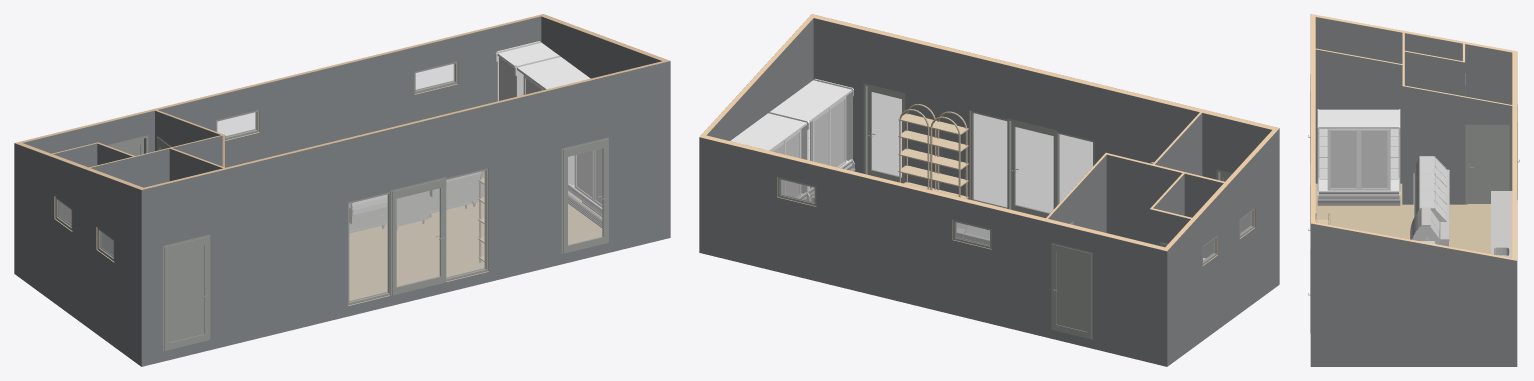
Rendered from Valkininkai_Mėsos krautuvėlė_R04.fbx.
3 views of the same model, side by side, from view 1: azimuth 30°, elevation 25°; view 2: azimuth 150°, elevation 25°; view 3: azimuth 270°, elevation 25° (orthographic). The views are drawn at different scales.
Visible parts, largest first — view 1: IfcWall/Part:2405523, IfcWall/Part:2405279, IfcWall/Part:2405271, IfcSlab/Part:2405282, IfcDoor/Lauko durys:1200x2250:2318509, IfcDoor/Lauko durys:1000x2250 nepermatomos (WC):2319108, IfcDoor/Lauko durys:1000x2250:2319070, IfcWindow/Aluprof_MB-86-SI_E_Alu_Window-1sash-FIX_ENG_R-000, IfcWindow/Aluprof_MB-86-SI_E_Alu_Window-1sash-FIX_ENG_R-0004, IfcWall/Part:2405276, IfcBuildingElementProxy/Freezer_-_Upright_Two_Door:62" Lengt, IfcWall/Part:2405264 (+14 smaller); view 2: IfcWall/Part:2405280, IfcWall/Part:2405522, IfcWall/Part:2405271, IfcBuildingElementProxy/Freezer_-_Upright_Two_Door:62" Lengt, IfcDoor/Lauko durys:1200x2250:2318509, IfcWall/Part:2405276, IfcWall/Part:2405263, IfcDoor/Lauko durys:1000x2100 (techninių patalpų):2321252, IfcDoor/Lauko durys:1000x2250:2319070, IfcWindow/Aluprof_MB-86-SI_E_Alu_Window-1sash-FIX_ENG_R-000, IfcBuildingElementProxy/Freezer_-_Upright_Two_Door:62" Leng, IfcWall/Part:2410921 (+12 smaller); view 3: IfcWall/Part:2405277, IfcBuildingElementProxy/Freezer_-_Upright_Two_Door:62" Leng., IfcWall/Part:2405268, IfcWall/Part:2405270, IfcWall/Part:2405260, IfcSlab/Part:2405282, IfcDoor/Vidaus durys:1000x2100:2319457, IfcBuildingElementProxy/Food_Service_Equipment-Display_Case. (×3), IfcWall/Part:2405257, IfcFurnishingElement/Workshop countertop6:Workshop counterto, IfcWall/Part:2405281, IfcWall/Part:2405524 (+6 smaller).
Boxes of the visible parts, left/top/right/bottom form: IfcWall/Part:2405523: left=141, top=61, right=670, bottom=366; IfcWall/Part:2405279: left=23, top=16, right=541, bottom=167; IfcWall/Part:2405271: left=14, top=143, right=141, bottom=366; IfcSlab/Part:2405282: left=349, top=198, right=602, bottom=300; IfcDoor/Lauko durys:1200x2250:2318509: left=388, top=177, right=446, bottom=295; IfcDoor/Lauko durys:1000x2250 nepermatomos (WC):2319108: left=163, top=234, right=210, bottom=351; IfcDoor/Lauko durys:1000x2250:2319070: left=561, top=137, right=608, bottom=253; IfcWindow/Aluprof_MB-86-SI_E_Alu_Window-1sash-FIX_ENG_R-000: left=446, top=168, right=488, bottom=281; IfcWindow/Aluprof_MB-86-SI_E_Alu_Window-1sash-FIX_ENG_R-0004: left=348, top=192, right=389, bottom=305; IfcWall/Part:2405276: left=541, top=16, right=662, bottom=78; IfcBuildingElementProxy/Freezer_-_Upright_Two_Door:62" Lengt: left=568, top=149, right=602, bottom=227; IfcWall/Part:2405264: left=91, top=148, right=169, bottom=255; IfcWall/Part:2405280: left=699, top=137, right=1167, bottom=366; IfcWall/Part:2405522: left=813, top=18, right=1271, bottom=199; IfcWall/Part:2405271: left=1167, top=128, right=1279, bottom=366; IfcBuildingElementProxy/Freezer_-_Upright_Two_Door:62" Lengt: left=770, top=78, right=855, bottom=201; IfcDoor/Lauko durys:1200x2250:2318509: left=1007, top=118, right=1058, bottom=217; IfcWall/Part:2405276: left=707, top=18, right=813, bottom=140; IfcWall/Part:2405263: left=1106, top=154, right=1182, bottom=243; IfcDoor/Lauko durys:1000x2100 (techninių patalpų):2321252: left=1051, top=242, right=1092, bottom=339; IfcDoor/Lauko durys:1000x2250:2319070: left=863, top=83, right=905, bottom=183; IfcWindow/Aluprof_MB-86-SI_E_Alu_Window-1sash-FIX_ENG_R-000: left=970, top=110, right=1011, bottom=209; IfcBuildingElementProxy/Freezer_-_Upright_Two_Door:62" Leng: left=730, top=111, right=809, bottom=200; IfcWall/Part:2410921: left=1048, top=155, right=1106, bottom=232; IfcWall/Part:2405277: left=1310, top=223, right=1516, bottom=366; IfcBuildingElementProxy/Freezer_-_Upright_Two_Door:62" Leng.: left=1317, top=109, right=1400, bottom=205; IfcWall/Part:2405268: left=1402, top=86, right=1512, bottom=204; IfcWall/Part:2405270: left=1315, top=17, right=1512, bottom=104; IfcWall/Part:2405260: left=1315, top=49, right=1402, bottom=183; IfcSlab/Part:2405282: left=1315, top=183, right=1490, bottom=253; IfcDoor/Vidaus durys:1000x2100:2319457: left=1465, top=124, right=1509, bottom=204; IfcBuildingElementProxy/Food_Service_Equipment-Display_Case. (×3): left=1410, top=156, right=1449, bottom=246; IfcWall/Part:2405257: left=1405, top=51, right=1465, bottom=96; IfcFurnishingElement/Workshop countertop6:Workshop counterto: left=1491, top=191, right=1512, bottom=240; IfcWall/Part:2405281: left=1512, top=50, right=1516, bottom=260; IfcWall/Part:2405524: left=1311, top=14, right=1315, bottom=222.
Bounding box in the file's own units: 1200 × 383 × 512.
